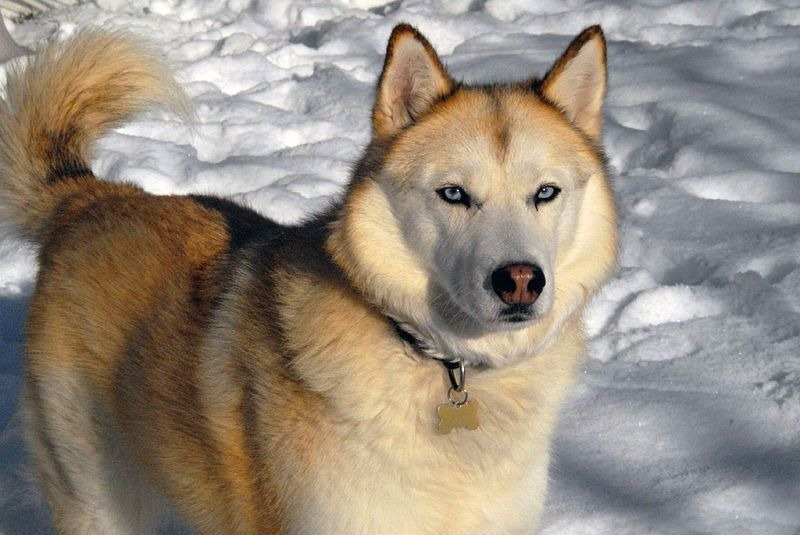husky: (9, 19, 637, 515)
